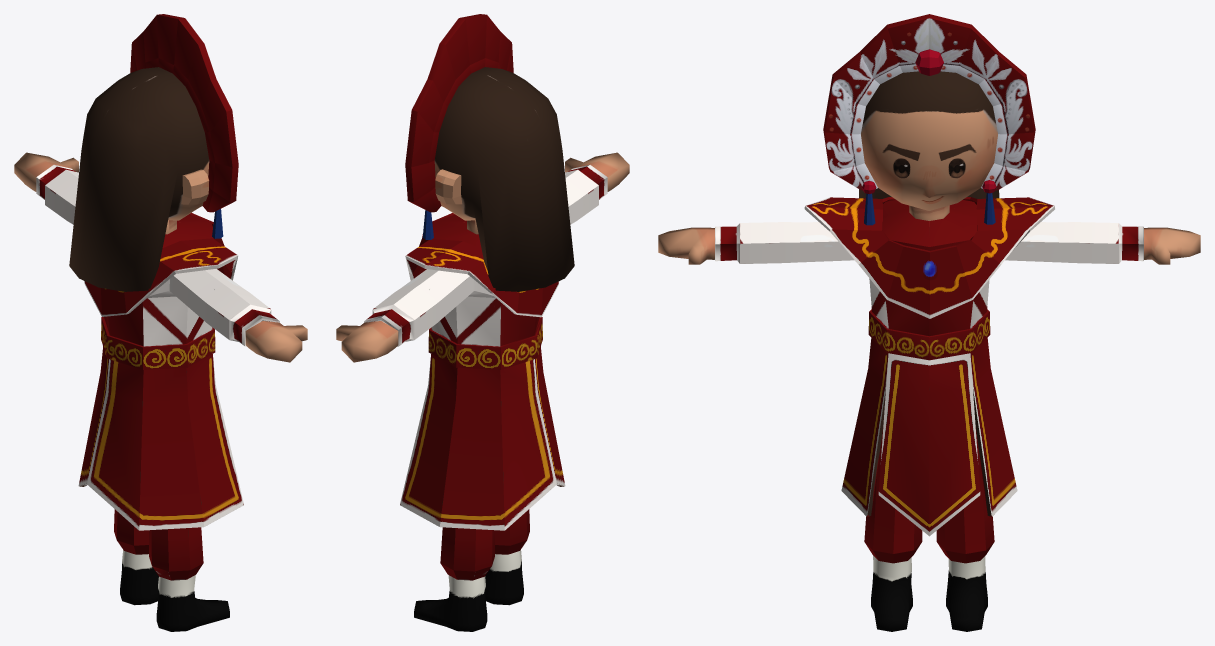
File: Character_fulloutfit.fbx
The picture shows the model from 3 angles, left to right: view 1: azimuth 30°, elevation 25°; view 2: azimuth 150°, elevation 25°; view 3: azimuth 270°, elevation 25°; orthographic projection. The views are drawn at different scales.
Parts seen in each view (by area): view 1: clothing, head, head.001, bodyparts, Plane, ears; view 2: clothing, head, head.001, bodyparts, Plane, ears; view 3: clothing, head.001, head, Plane, bodyparts.
Boxes of the visible parts, box(x1,y1,x2,y2) form: clothing: box(36, 164, 279, 580); head: box(69, 67, 209, 291); head.001: box(130, 14, 238, 212); bodyparts: box(14, 152, 307, 631); Plane: box(84, 212, 238, 316); ears: box(181, 169, 209, 204); clothing: box(364, 164, 607, 580); head: box(434, 67, 574, 291); head.001: box(405, 14, 513, 212); bodyparts: box(336, 152, 629, 631); Plane: box(405, 213, 559, 317); ears: box(435, 169, 462, 204); clothing: box(715, 200, 1143, 563); head.001: box(823, 14, 1035, 190); head: box(859, 71, 999, 210); Plane: box(804, 197, 1054, 318); bodyparts: box(658, 205, 1200, 631).
Bounding box in the file's own units: 40.51 × 154 × 126.
8 materials, 6 textured.
